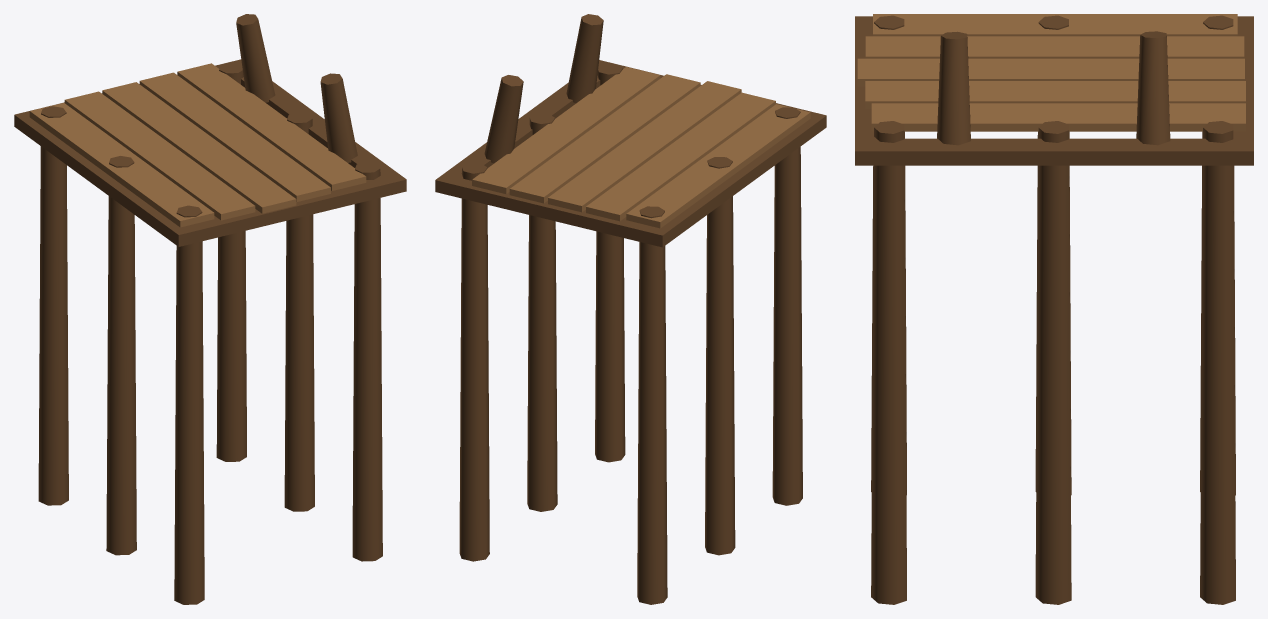
The model's file is dock-platform-small.glb.
3 renders of one model, left to right at view 1: azimuth 30°, elevation 25°; view 2: azimuth 150°, elevation 25°; view 3: azimuth 270°, elevation 25°, orthographic. The views are drawn at different scales.
Visible parts, largest first — view 1: wooddark, woodlight; view 2: wooddark, woodlight; view 3: wooddark, woodlight.
Part boxes in pixels (left/top/right/bottom): wooddark: left=14, top=14, right=406, bottom=604; woodlight: left=29, top=63, right=366, bottom=227; wooddark: left=435, top=14, right=826, bottom=604; woodlight: left=472, top=67, right=810, bottom=228; wooddark: left=855, top=15, right=1253, bottom=604; woodlight: left=857, top=14, right=1245, bottom=131.
Bounding box in the file's own units: 3.2 × 6.18 × 4.
